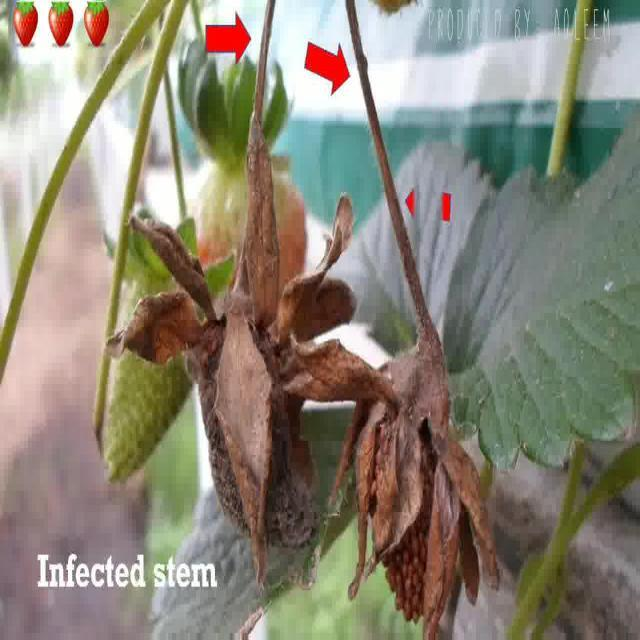Mancha negra Antracnosis: (188, 308, 316, 568), (352, 384, 473, 626)
